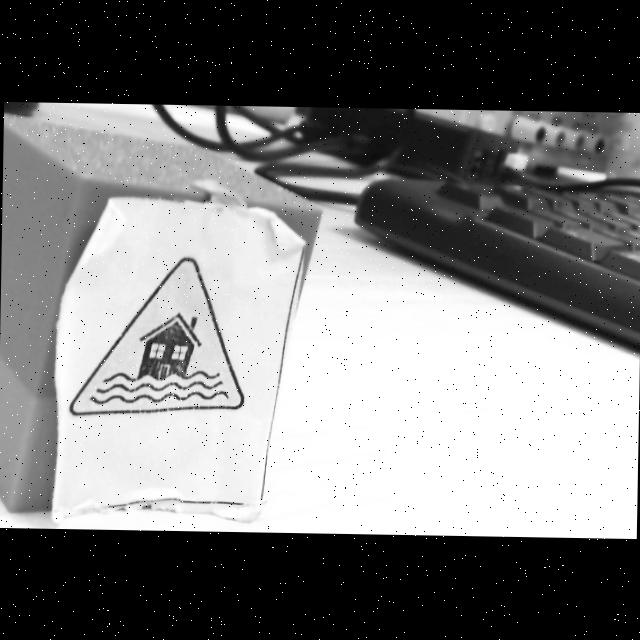Tsunami: (68, 258, 243, 416)
